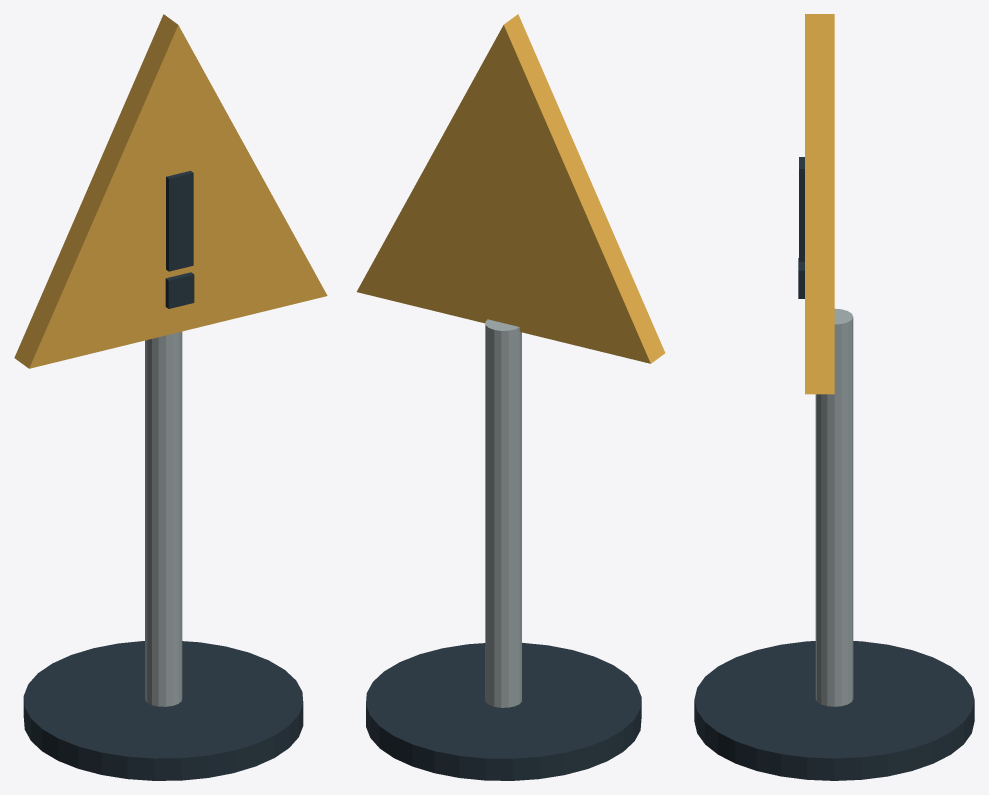
File: scendance-plan-risk-assessment-pin.glb
3 views of the same model, side by side, from view 1: azimuth 30°, elevation 25°; view 2: azimuth 150°, elevation 25°; view 3: azimuth 270°, elevation 25° (orthographic).
Size of the model in its own units: 0.64 by 1.45 by 0.52.
